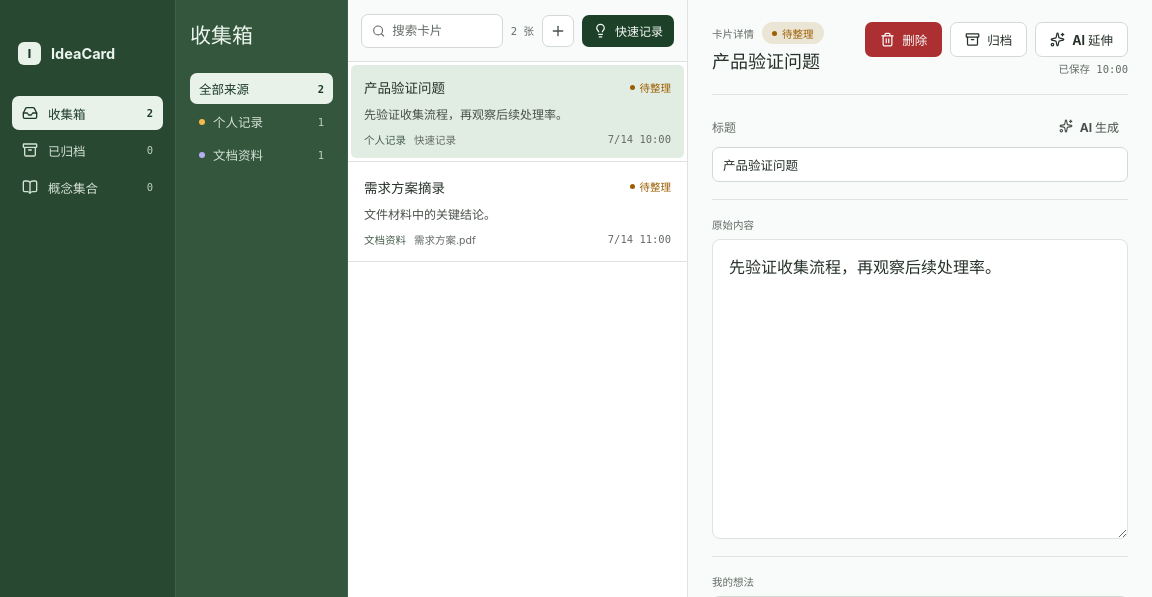
Test: InboxPage › opens the concept collection from the workspace navigation
What coordinates should you click on to do the following:
click the button "概念集合 0"
I would click on:
 (88, 187)
Its box is [12,170,163,204].
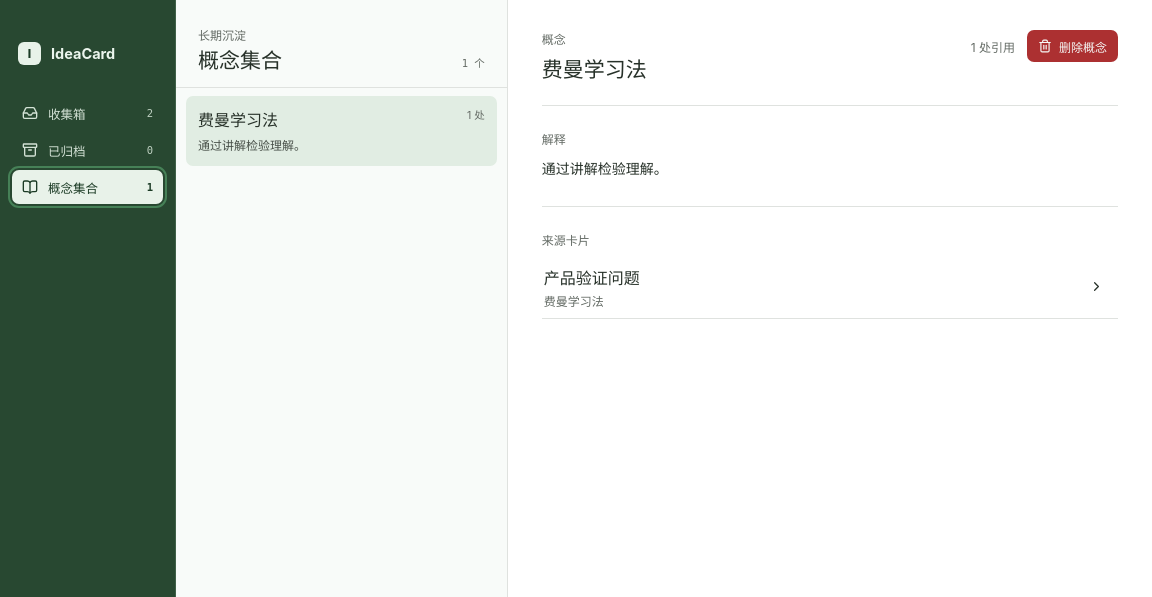
Expected: the heading "概念集合" is shown, [198,48,282,73]
Expected: the text "费曼学习法" below "长期沉淀" is shown, [198,110,278,130]
